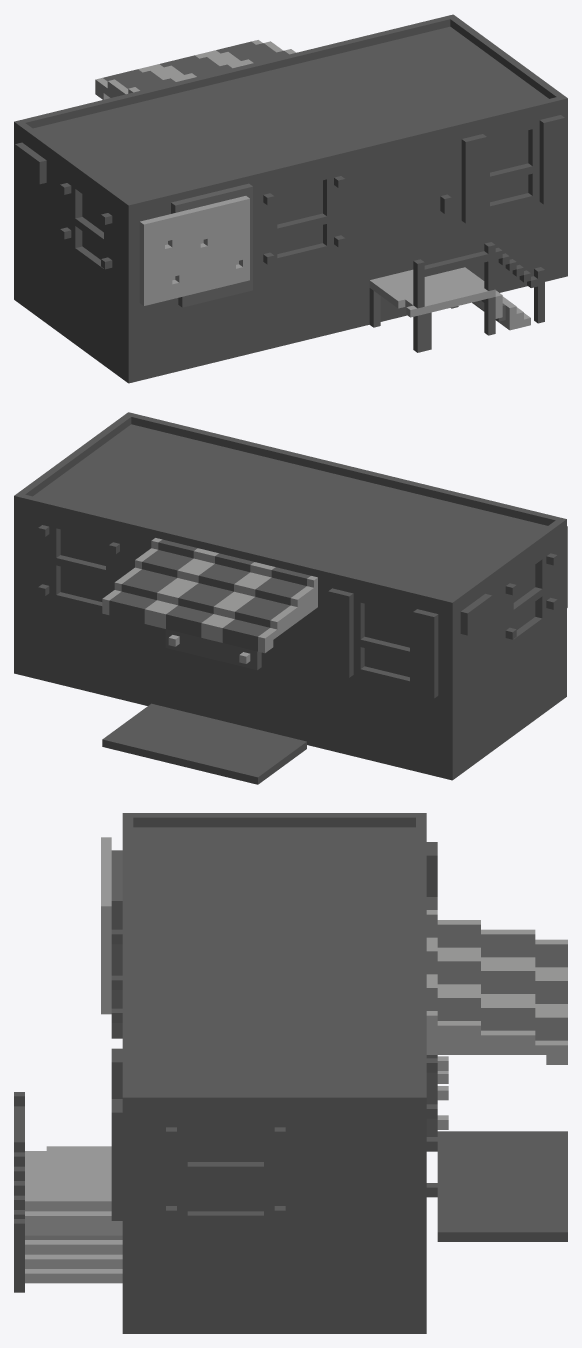
The model's file is bld_house6.obj.
3 views of the same model, one above another, from view 1: azimuth 30°, elevation 25°; view 2: azimuth 150°, elevation 25°; view 3: azimuth 270°, elevation 25° (orthographic). The views are drawn at different scales.
Bounding box in the file's own units: 64 × 24 × 51.
